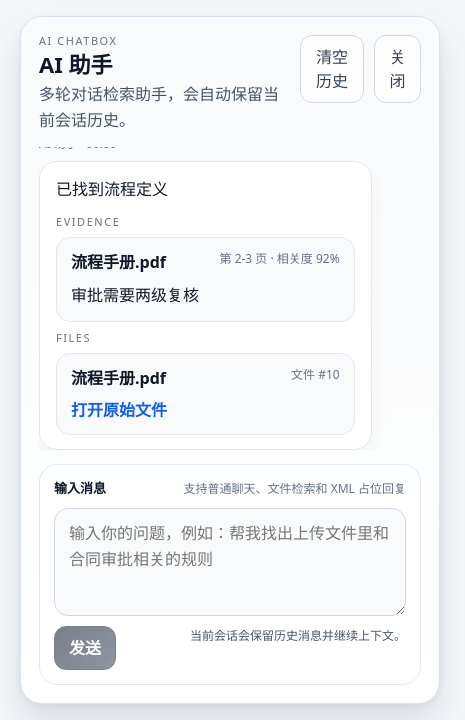
Test: AiAssistantPopover › clears the current conversation and creates a fresh one
(page scrolled)
Click the button with test id "ai-clear-conversation" at (332, 69), box [300,35,364,103]
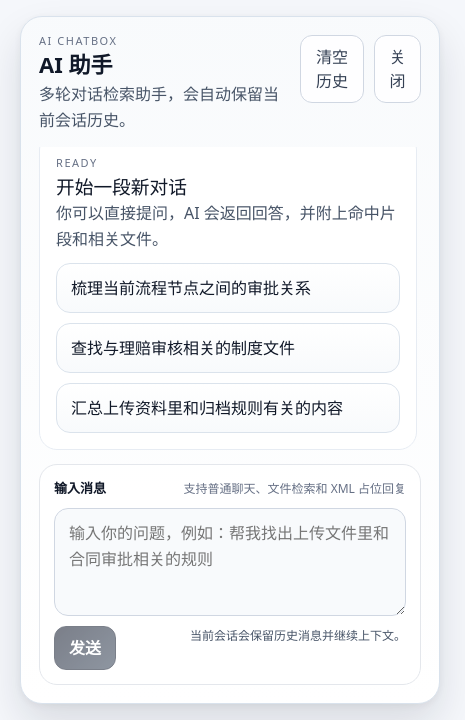
Expected: the text "开始一段新对话" is shown, [56,174,187,199]
